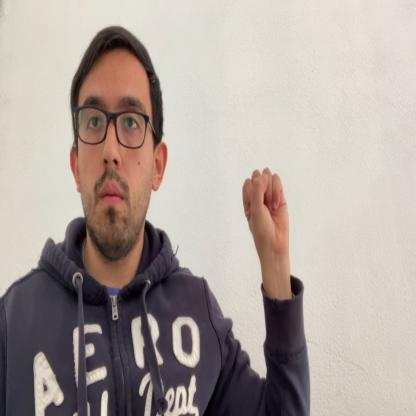S: (243, 169, 289, 262)
